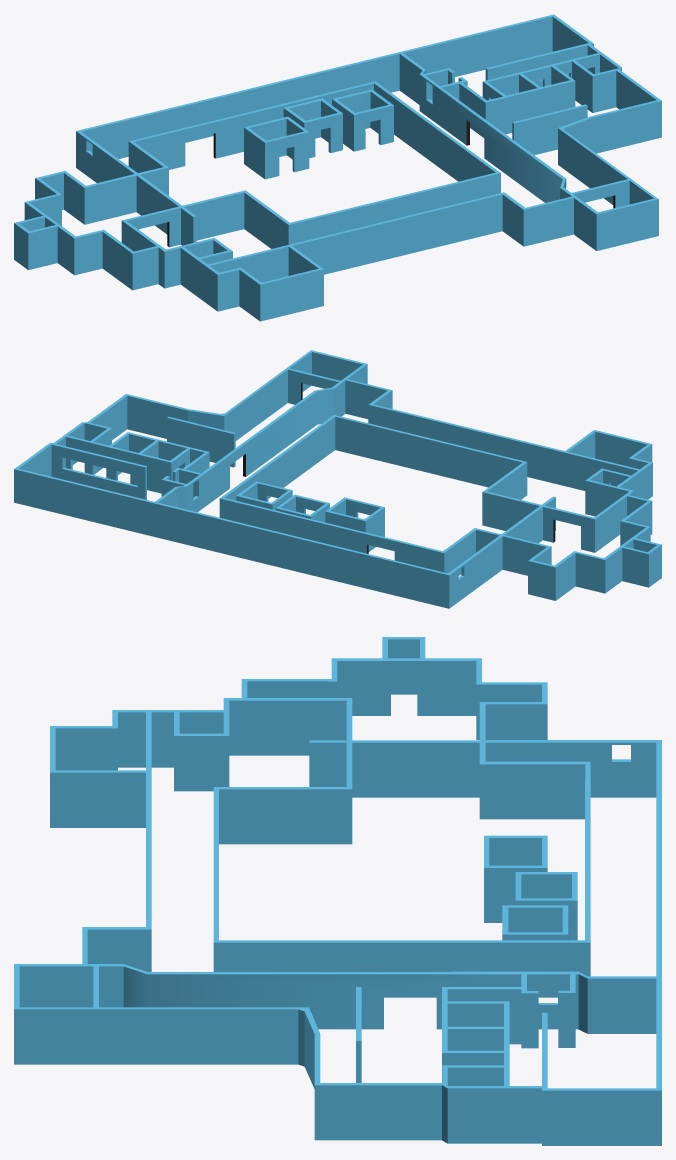
Rendered from WallsFactory.fbx.
3 renders of one model, top to bottom at view 1: azimuth 30°, elevation 25°; view 2: azimuth 150°, elevation 25°; view 3: azimuth 270°, elevation 25°, orthographic. The views are drawn at different scales.
Visible parts, largest first — view 1: Line032; view 2: Line032; view 3: Line032.
Boxes of the visible parts, x1,y1,x2,y2 form: Line032: [14, 14, 661, 321]; Line032: [14, 350, 661, 608]; Line032: [14, 637, 661, 1145].
Bounding box in the file's own units: 5720 × 325 × 3453.
